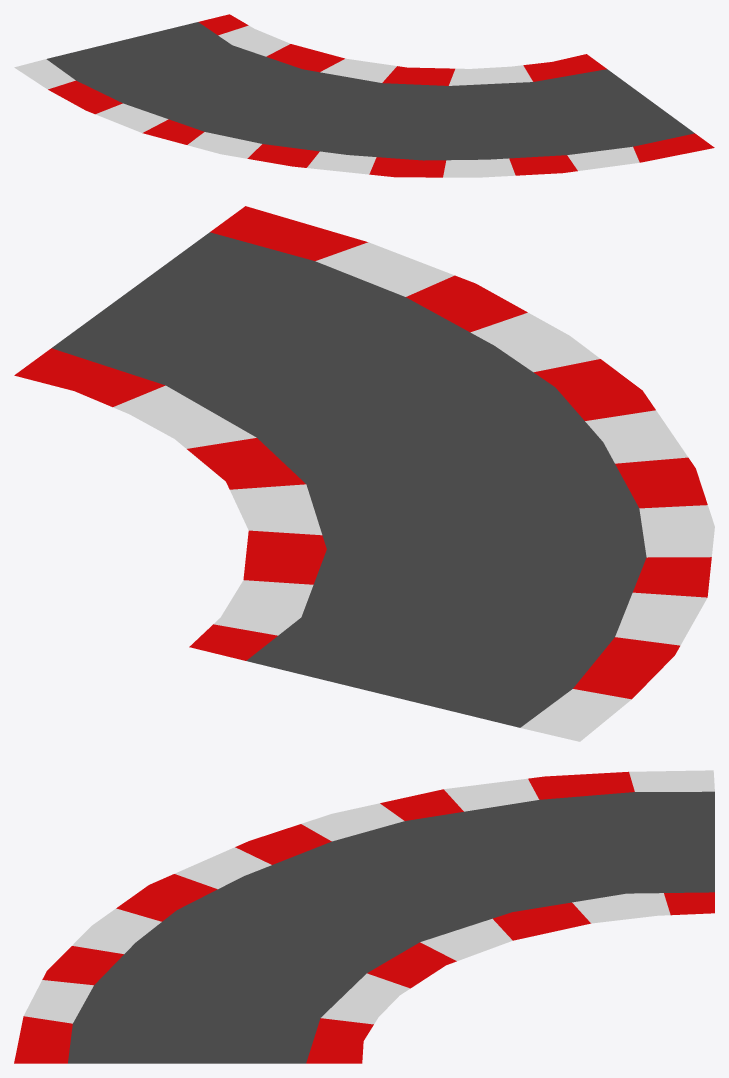
Rendered from Corner 1.1.fbx.
3 views of the same model, one above another, from view 1: azimuth 30°, elevation 25°; view 2: azimuth 150°, elevation 25°; view 3: azimuth 270°, elevation 25° (orthographic). The views are drawn at different scales.
Visible parts, largest first — view 1: Plane; view 2: Plane; view 3: Plane.
Part boxes in pixels (x1,y1,x2,y2): Plane: (14, 14, 714, 177); Plane: (14, 206, 714, 741); Plane: (14, 770, 714, 1063).
Size of the model in its own units: 2976 by 0.8616 by 3004.
